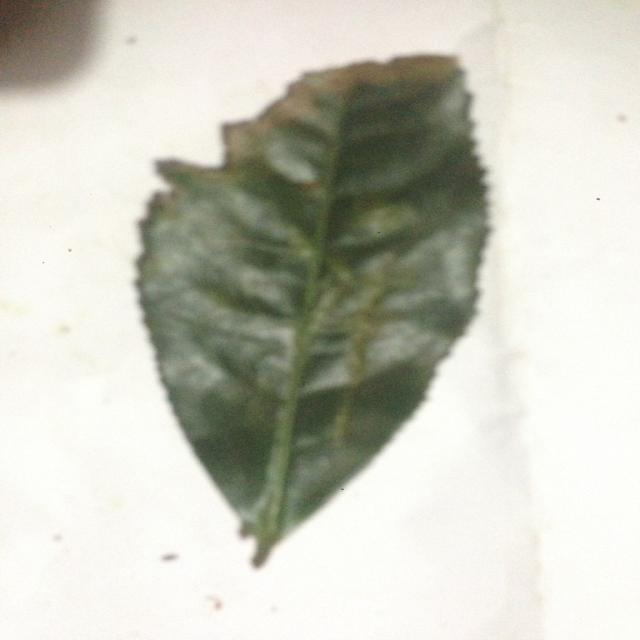Red Leaf Spot: (106, 47, 521, 590)
